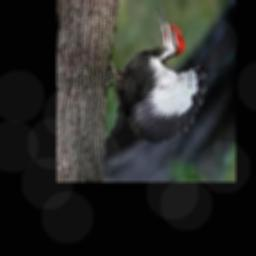Woodpecker: (107, 5, 206, 145)
